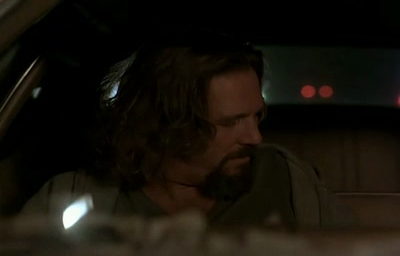cu: (1, 1, 400, 256)
face: (201, 84, 266, 198)
person: (13, 23, 361, 256)
